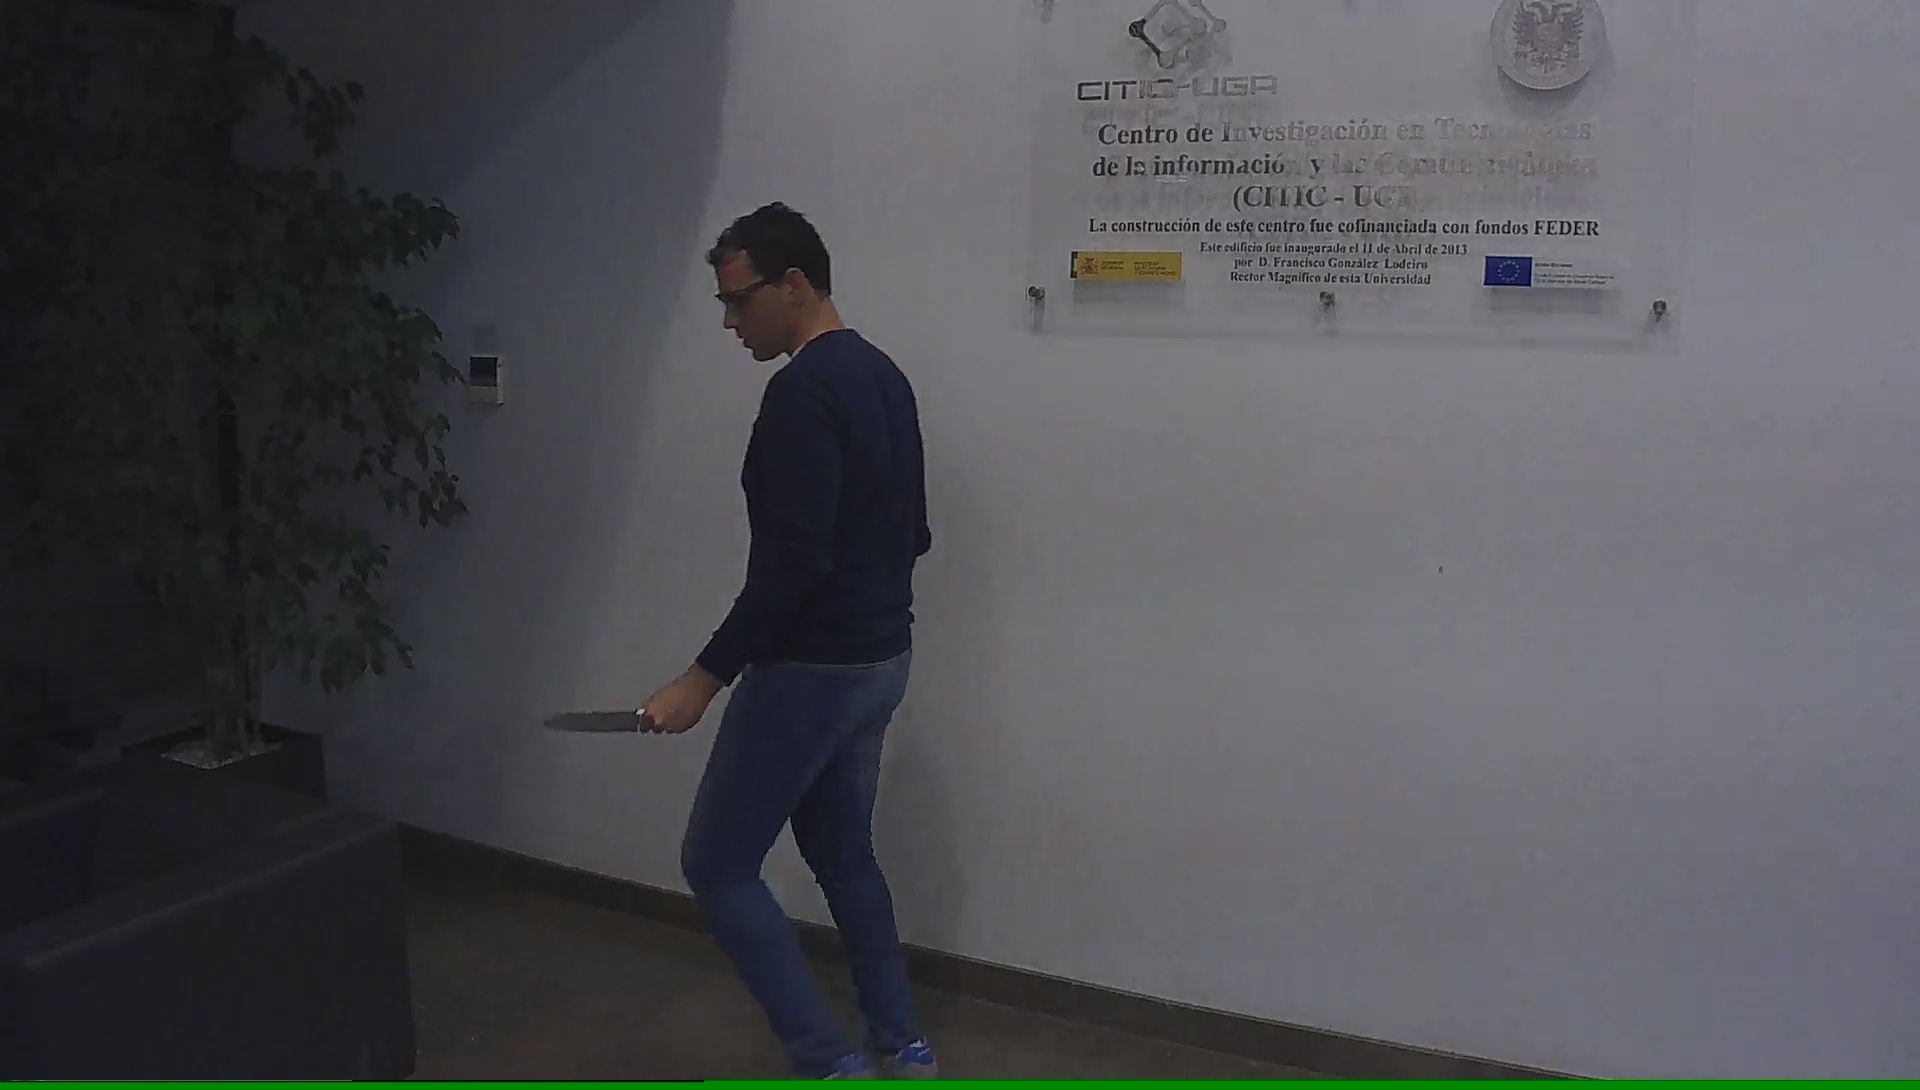knife: (537, 687, 676, 741)
